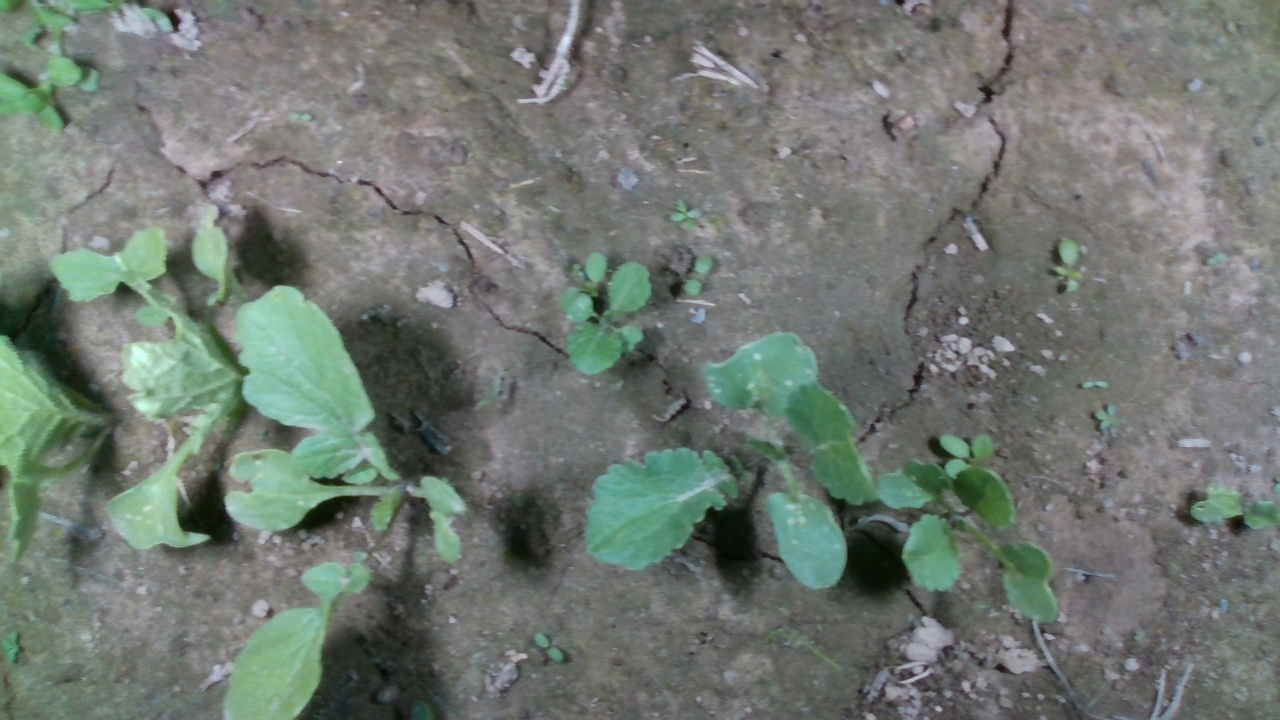weed: (1048, 233, 1087, 296), (683, 252, 714, 296), (667, 197, 703, 230), (530, 632, 565, 663), (1091, 402, 1123, 431), (2, 628, 22, 666), (1077, 377, 1109, 390)
